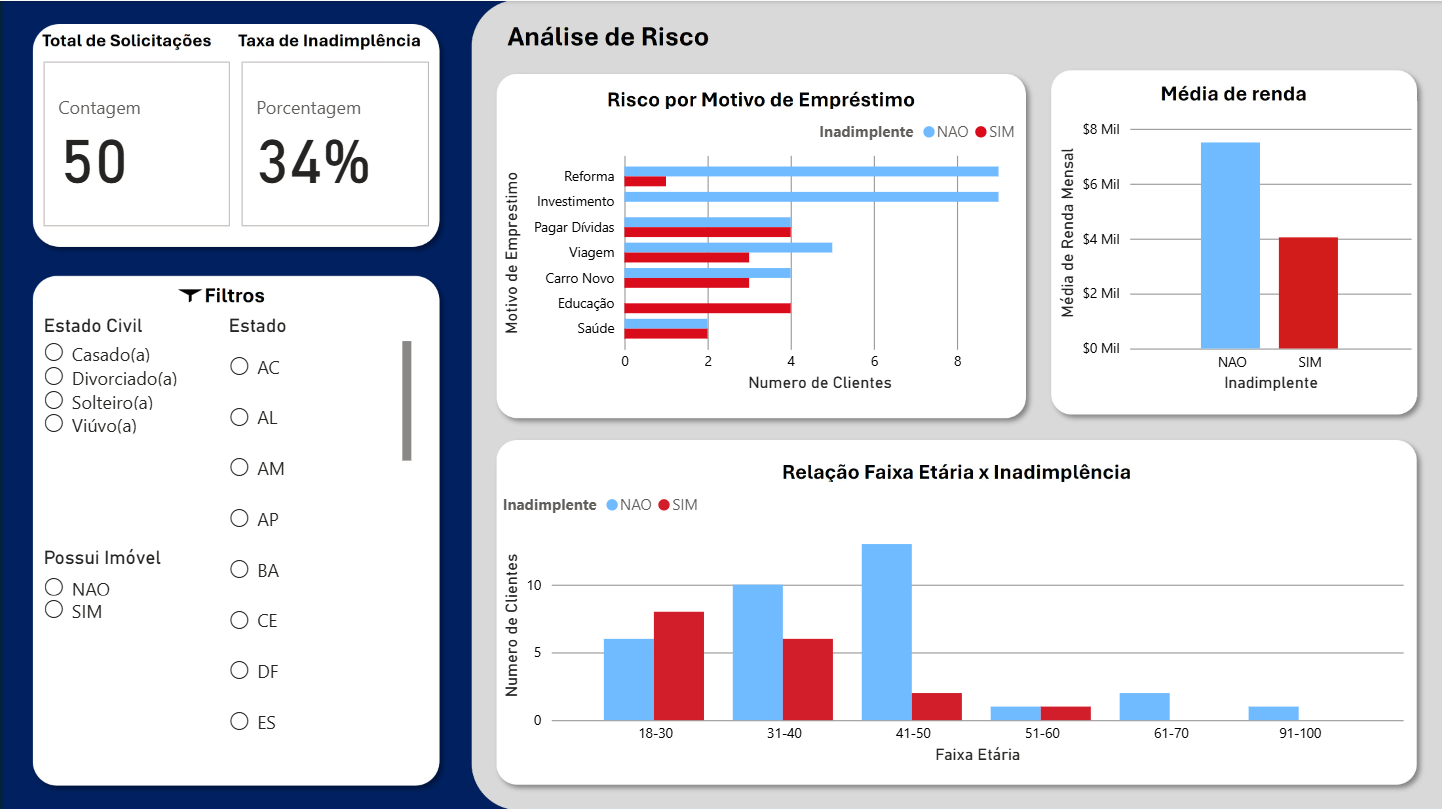

This screenshot's page, from the dashboard's own definition file:
{"tool":"powerbi","page":{"name":"Análise de Risco ","canvas":[1280,720],"ordinal":0},"visuals":[{"type":"cardVisual","title":"Total de Solicitações ","fields":{"Data":["Count(credito_clientes.id_cliente)"]},"box":[33.7,48.8,175.6,156.1],"z":0},{"type":"cardVisual","title":"Taxa de Inadimplência","fields":{"Data":["credito_clientes.Taxa Inadimplência"]},"box":[209.3,48.8,176.5,156.1],"z":1000},{"type":"clusteredBarChart","title":"Risco de Inadimplência por Motivo de Emprestimo ","fields":{"Category":["credito_clientes.motivo_emprestimo"],"Y":["Count(credito_clientes.id_cliente)"],"Series":["credito_clientes.inadimplente"]},"box":[440.7,95.8,469.1,255.4],"z":2000},{"type":"clusteredColumnChart","title":"Média de renda por inadimplência","fields":{"Category":["credito_clientes.inadimplente"],"Y":["Avg(credito_clientes.renda_mensal)"]},"box":[933.7,88.7,322.8,262.5],"z":3000},{"type":"clusteredColumnChart","title":"Relação Inadimplência x Idade","fields":{"Series":["credito_clientes.inadimplente"],"Category":["credito_clientes.Faixa Etária"],"Y":["CountNonNull(credito_clientes.id_cliente)"]},"box":[440.7,426.5,808.7,254.5],"z":4000},{"type":"listSlicer","fields":{"Values":["credito_clientes.estado_civil"]},"box":[33.7,277.5,164,197.7],"z":5000},{"type":"listSlicer","fields":{"Values":["credito_clientes.possui_imovel"]},"box":[33.7,483.3,175.6,197.7],"z":6000},{"type":"listSlicer","fields":{"Values":["credito_clientes.estado"]},"box":[197.7,277.5,172,394.6],"z":7000}]}

Visuals, with their boxes in screenshot pixels (x1, y1, x2, y2), scaled from the page's 1280x720 canvas onto the 1442x809 screenshot:
"Total de Solicitações " cardVisual: 38:55:236:230
"Taxa de Inadimplência" cardVisual: 236:55:435:230
"Risco de Inadimplência por Motivo de Emprestimo " clusteredBarChart: 496:108:1025:395
"Média de renda por inadimplência" clusteredColumnChart: 1052:100:1416:395
"Relação Inadimplência x Idade" clusteredColumnChart: 496:479:1408:765
listSlicer - credito_clientes.estado_civil: 38:312:223:534
listSlicer - credito_clientes.possui_imovel: 38:543:236:765
listSlicer - credito_clientes.estado: 223:312:416:755
